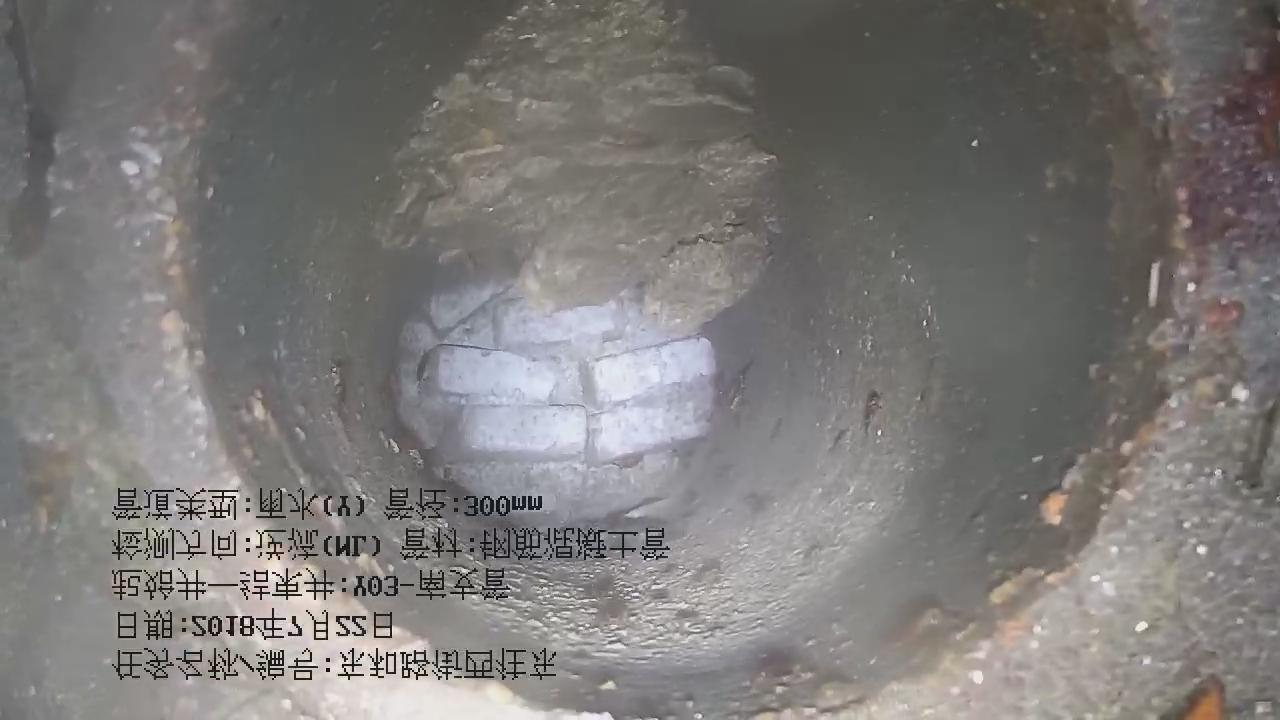CJ: (382, 1, 773, 331)
CQBG: (396, 279, 715, 535)
